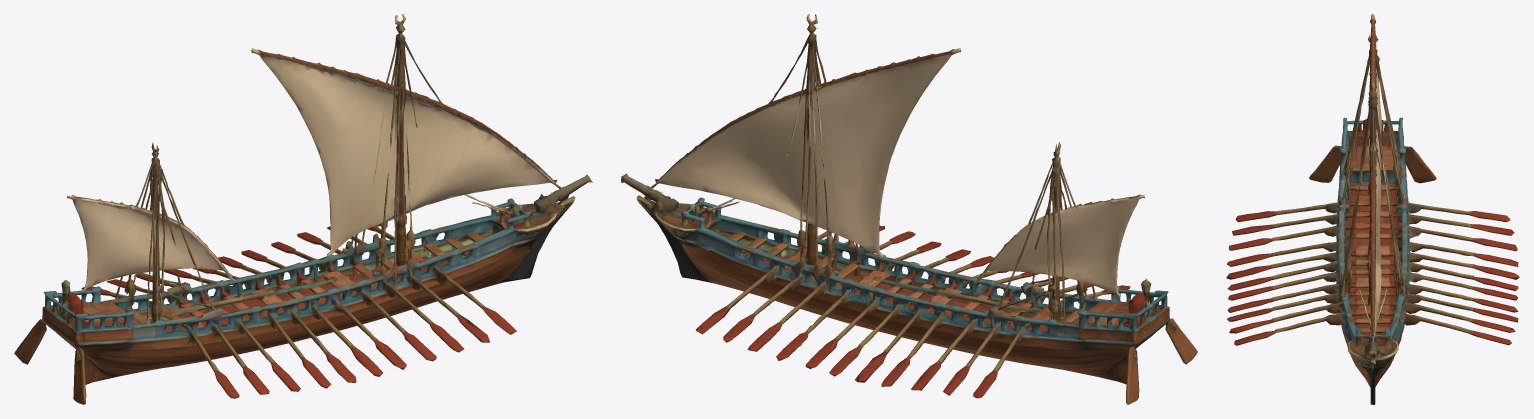
The model's file is osmanli-kalyatasi-1550-1600-tripo-v1.glb.
3 views of the same model, side by side, from view 1: azimuth 30°, elevation 25°; view 2: azimuth 150°, elevation 25°; view 3: azimuth 270°, elevation 25° (orthographic). The views are drawn at different scales.
Parts seen in each view (by area): view 1: tripo_node_b272c09c-bfdf-4d5a-ba0d-04cb9becd1dd; view 2: tripo_node_b272c09c-bfdf-4d5a-ba0d-04cb9becd1dd; view 3: tripo_node_b272c09c-bfdf-4d5a-ba0d-04cb9becd1dd.
Part boxes in pixels (x1=…): tripo_node_b272c09c-bfdf-4d5a-ba0d-04cb9becd1dd: x1=14, y1=14, x2=592, y2=404; tripo_node_b272c09c-bfdf-4d5a-ba0d-04cb9becd1dd: x1=621, y1=14, x2=1197, y2=404; tripo_node_b272c09c-bfdf-4d5a-ba0d-04cb9becd1dd: x1=1226, y1=14, x2=1519, y2=404.
Bounding box in the file's own units: 1 × 0.5222 × 0.5177.
Materials: 1 (1 with a texture image).
